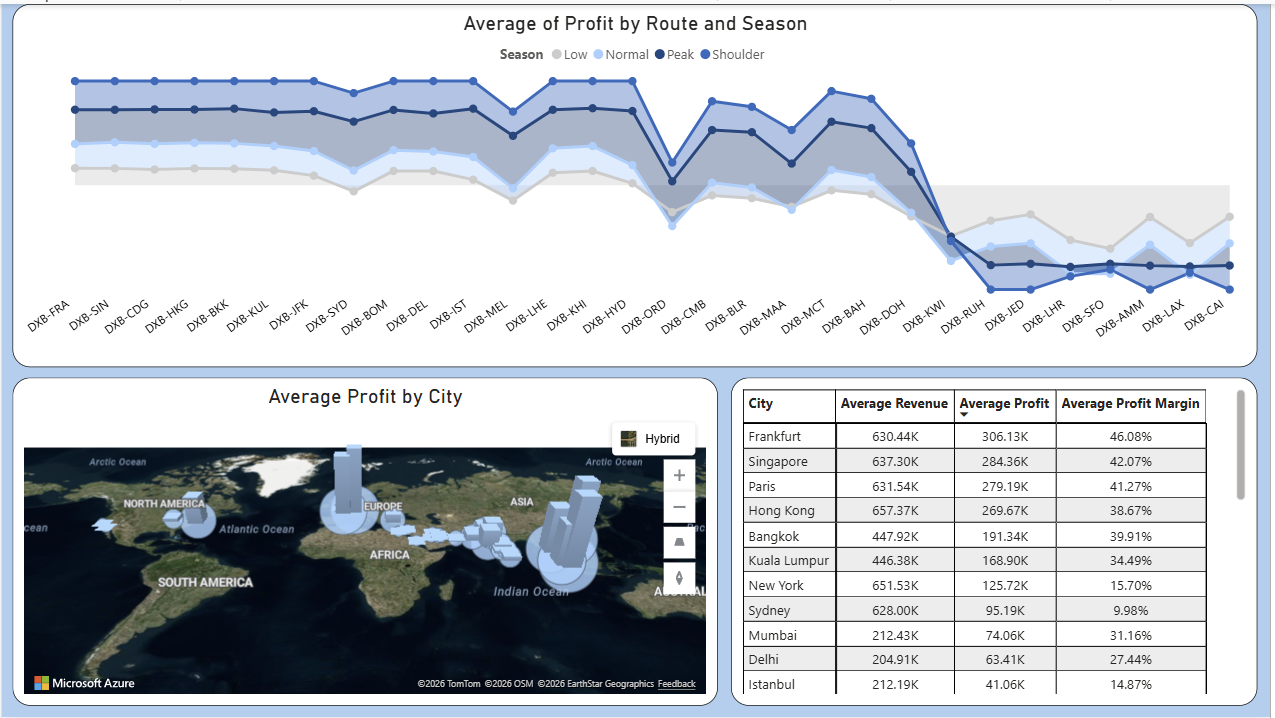

This screenshot's page, from the dashboard's own definition file:
{"tool":"powerbi","page":{"name":"Geographic","canvas":[1280,720],"ordinal":2},"visuals":[{"type":"azureMap","title":"Average Profit by City","fields":{"Category":["DimCity csv.City"],"Size":["Avg(Project 1.Profit)"]},"box":[10.6,377,711.7,331.6],"z":0},{"type":"hundredPercentStackedAreaChart","fields":{"Category":["Project 1.Route"],"Series":["Project 1.Season"],"Y":["Avg(Project 1.Profit)"]},"box":[10.6,0,1256.8,366.4],"z":1000},{"type":"pivotTable","fields":{"Rows":["DimCity csv.City"],"Values":["Avg(Project 1.Total Revenue)","Avg(Project 1.Profit)","Avg(Project 1.Profit Margin %)"]},"box":[735.9,377,531.5,331.6],"z":2000}]}

Visuals, with their boxes in screenshot pixels (x1, y1, x2, y2), scaled from the page's 1280x720 canvas onto the 1275x718 screenshot:
"Average Profit by City" azureMap: 11:376:719:707
hundredPercentStackedAreaChart - Project 1.Route x Project 1.Season: 11:0:1262:365
pivotTable - DimCity csv.City x Avg(Project 1.Total Revenue): 733:376:1262:707
